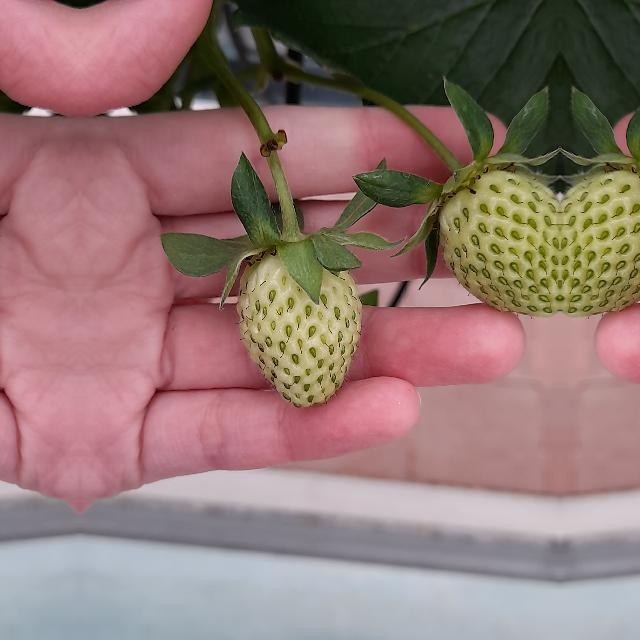Health_25: (237, 249, 361, 406)
